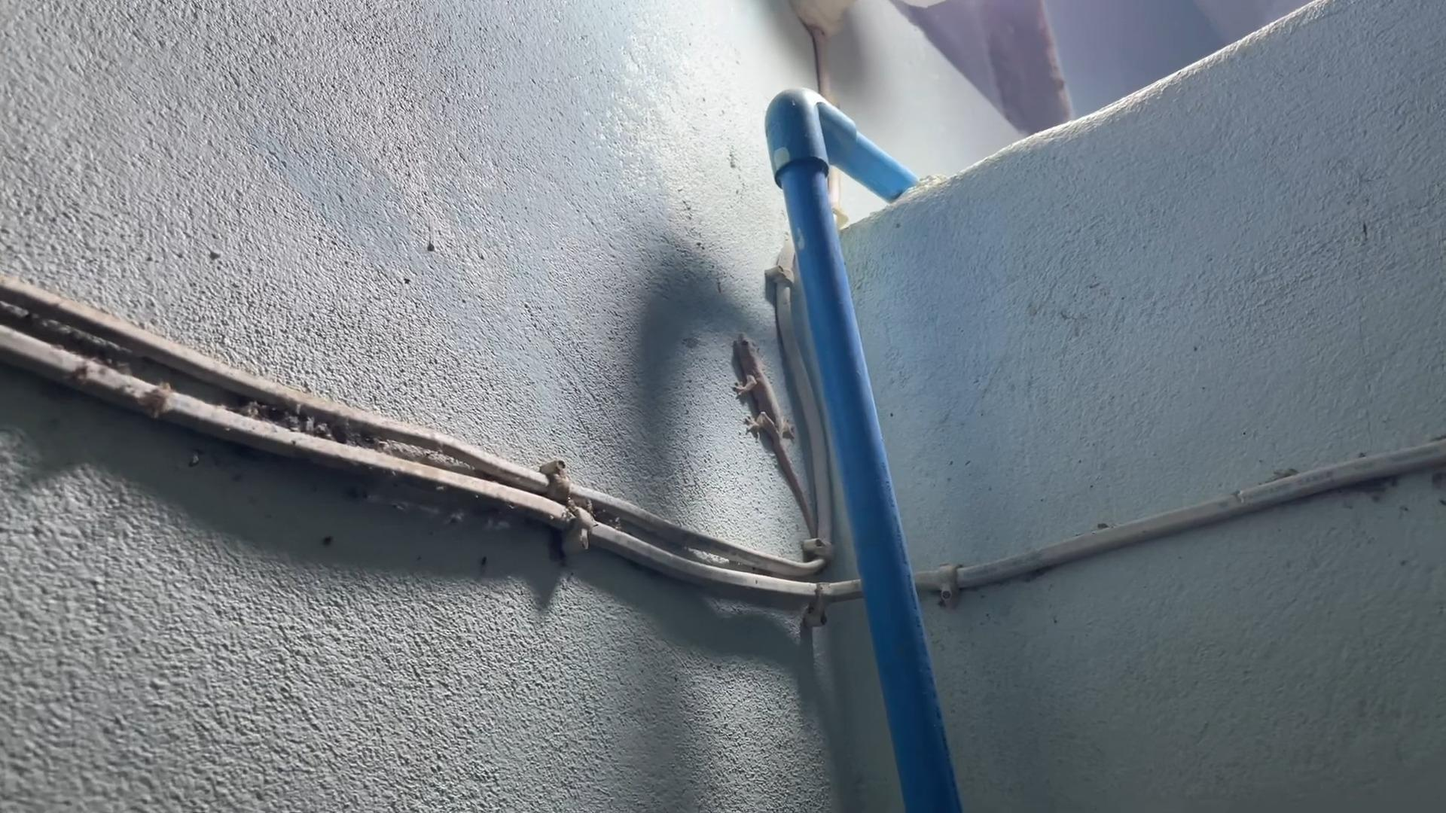lizard: (727, 328, 813, 541)
